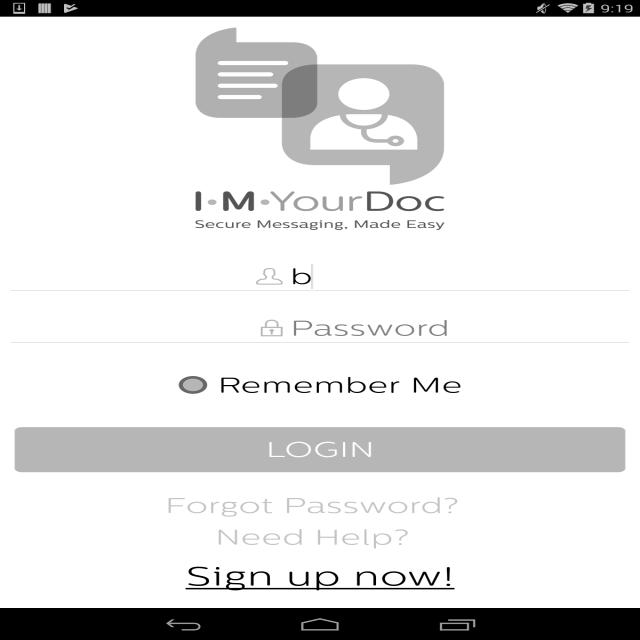Button: (11, 426, 629, 473), (0, 316, 288, 340), (0, 265, 288, 288)
CheckBox: (177, 372, 462, 398)
EditText: (288, 314, 640, 342), (288, 263, 640, 290)
ImageView: (188, 23, 450, 240)
TextView: (0, 554, 640, 599), (0, 521, 624, 553), (0, 490, 624, 521)
